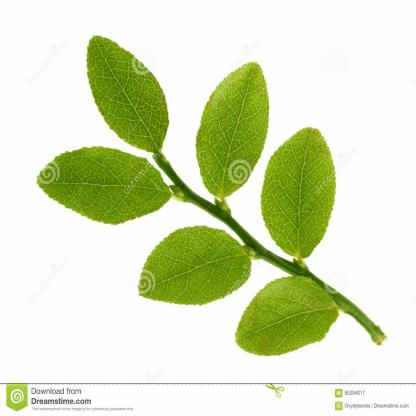blueberry leaf: (196, 38, 273, 217), (264, 123, 343, 275), (27, 147, 177, 226), (83, 25, 171, 153), (125, 227, 260, 310), (228, 275, 348, 357)
